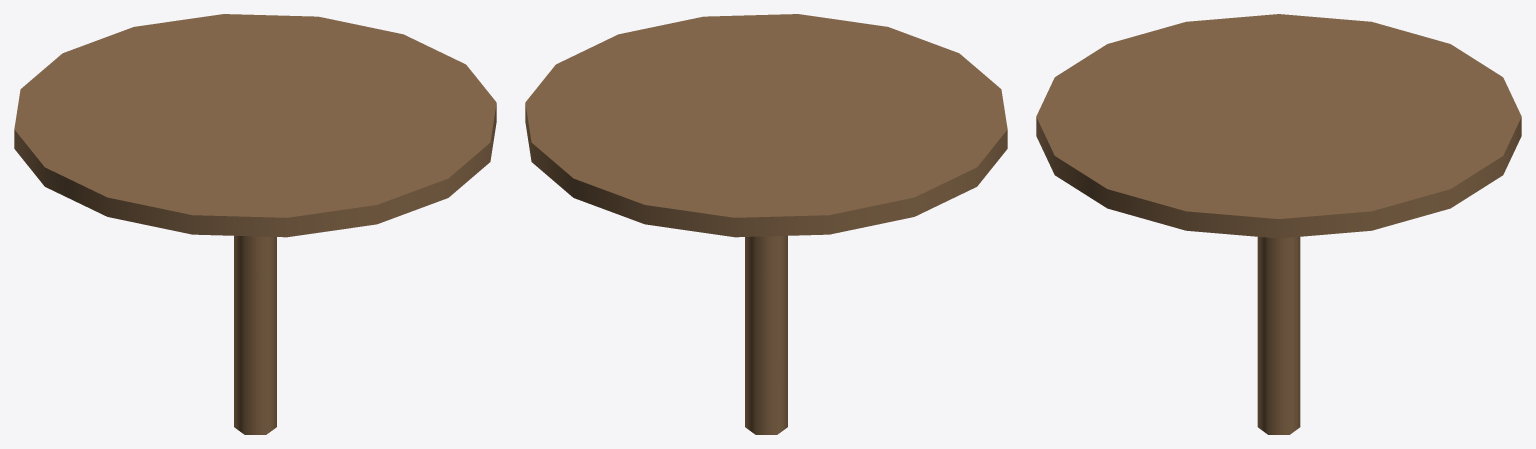
Rendered from porch-table.glb.
3 views of the same model, side by side, from view 1: azimuth 30°, elevation 25°; view 2: azimuth 150°, elevation 25°; view 3: azimuth 270°, elevation 25° (orthographic).
Visible parts, largest first — view 1: porch-table; view 2: porch-table; view 3: porch-table.
Boxes of the visible parts, x1=… form: porch-table: x1=14, y1=14, x2=496, y2=434; porch-table: x1=525, y1=14, x2=1007, y2=434; porch-table: x1=1036, y1=14, x2=1521, y2=434.
Bounding box in the file's own units: 3.4 × 2.4 × 3.4.
